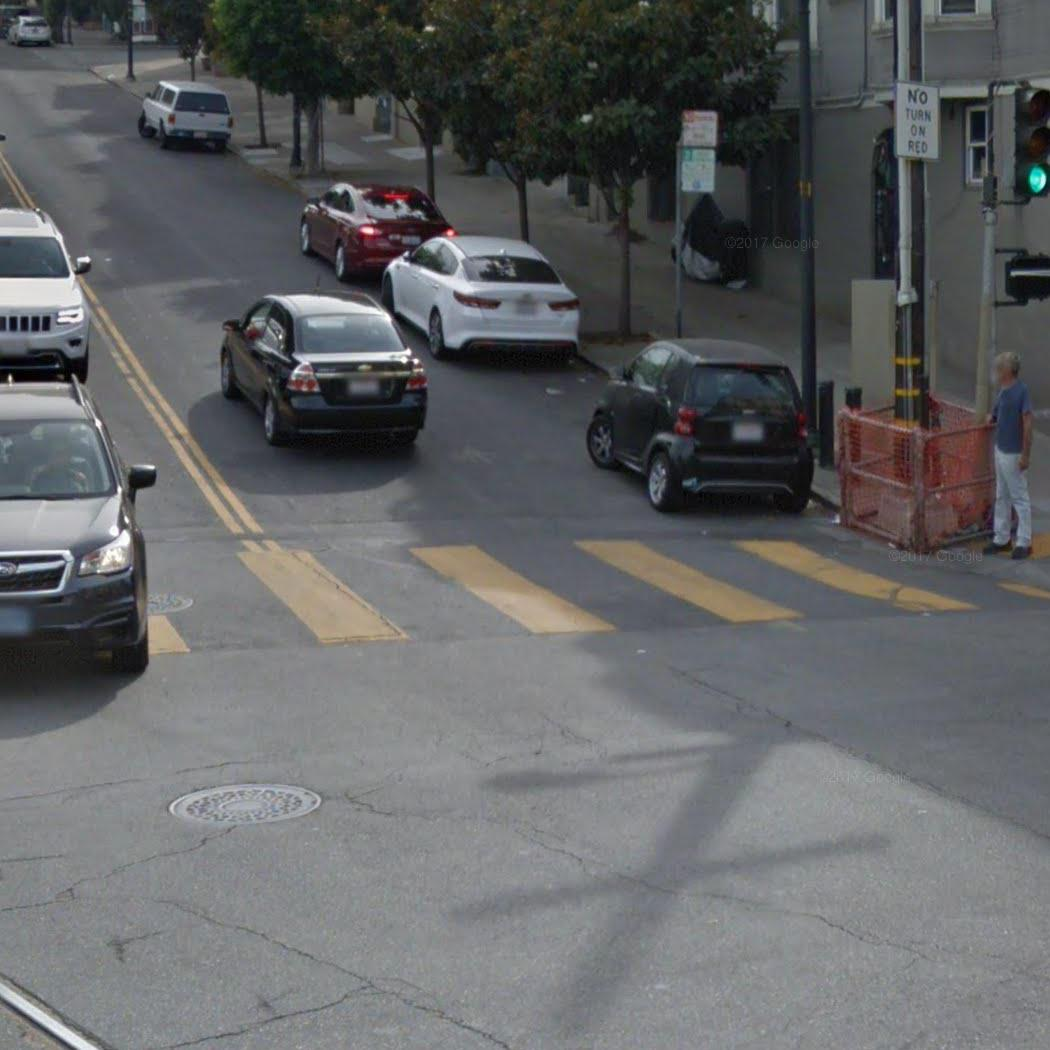2 Hour Parking: (679, 147, 718, 196)
No Parking: (679, 107, 720, 148)
